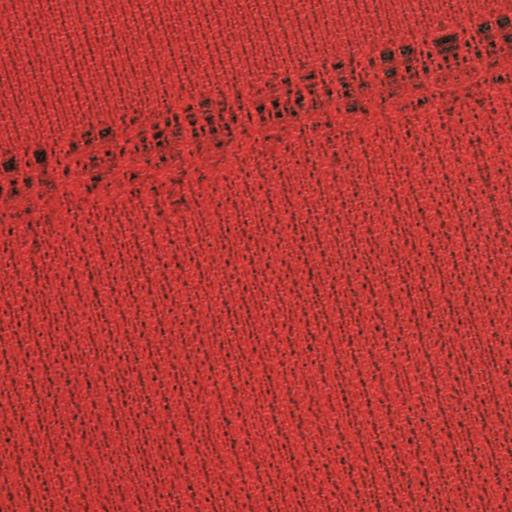slub: (1, 18, 510, 237)
